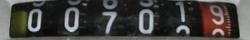digits: (137, 8, 154, 34), (208, 2, 225, 26), (101, 11, 117, 35), (63, 7, 79, 31), (27, 8, 42, 31), (175, 1, 187, 23)
